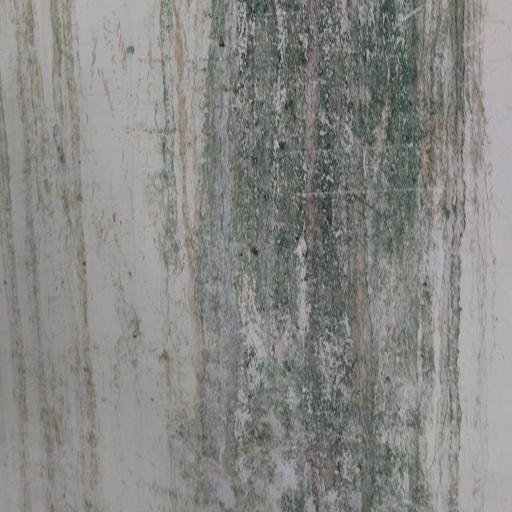algae: (131, 25, 474, 512)
